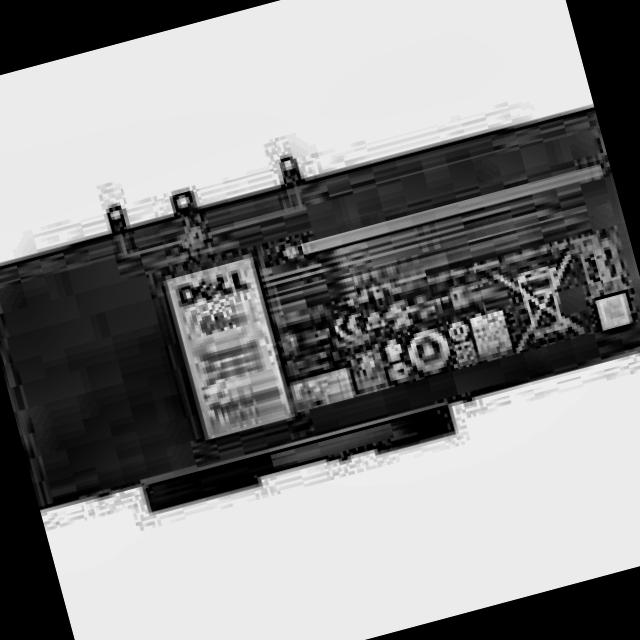Battery: (0, 73, 640, 542)
